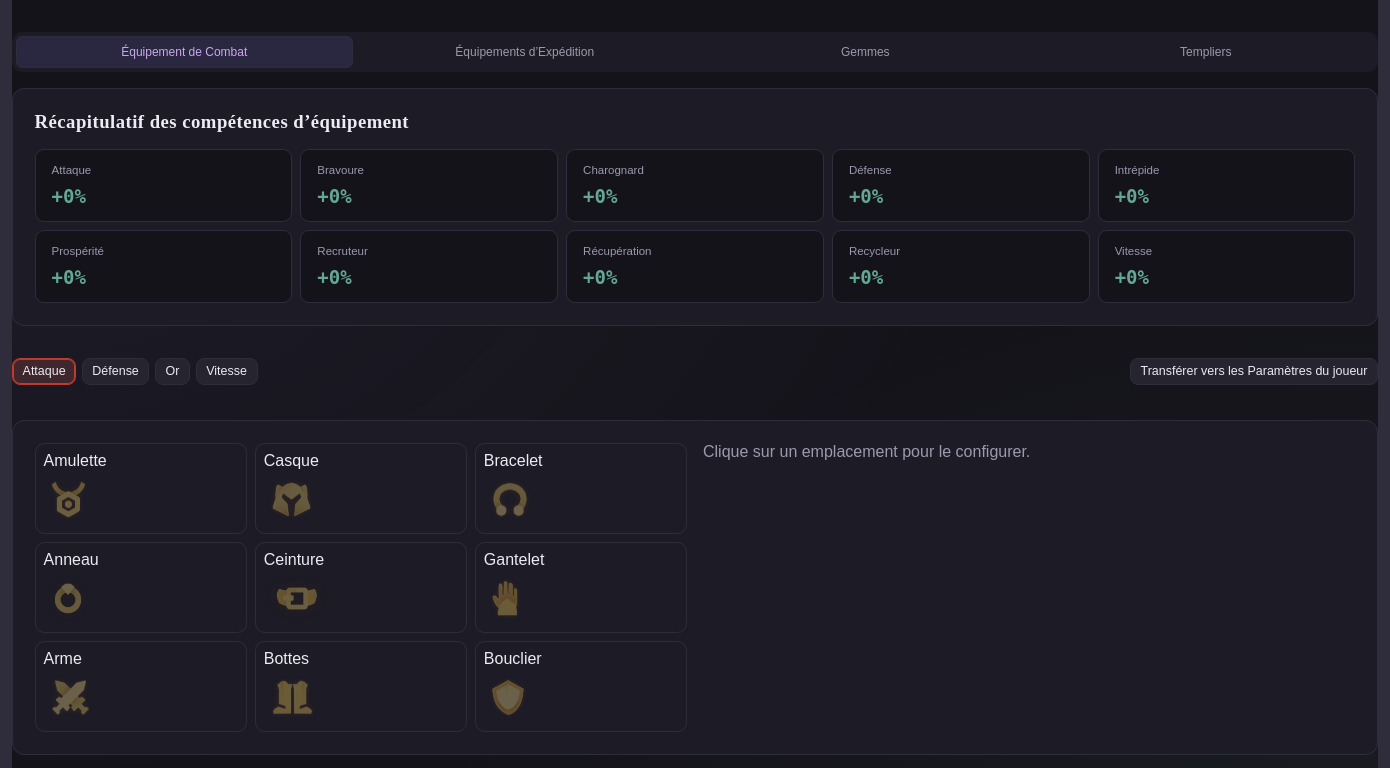
it: SkillsCalculators › uses the administrator-provided named Templar parameters
The width and height of the screenshot is (1390, 768).
Click the tab "Templiers": (1206, 52) [1038,36,1374,68]
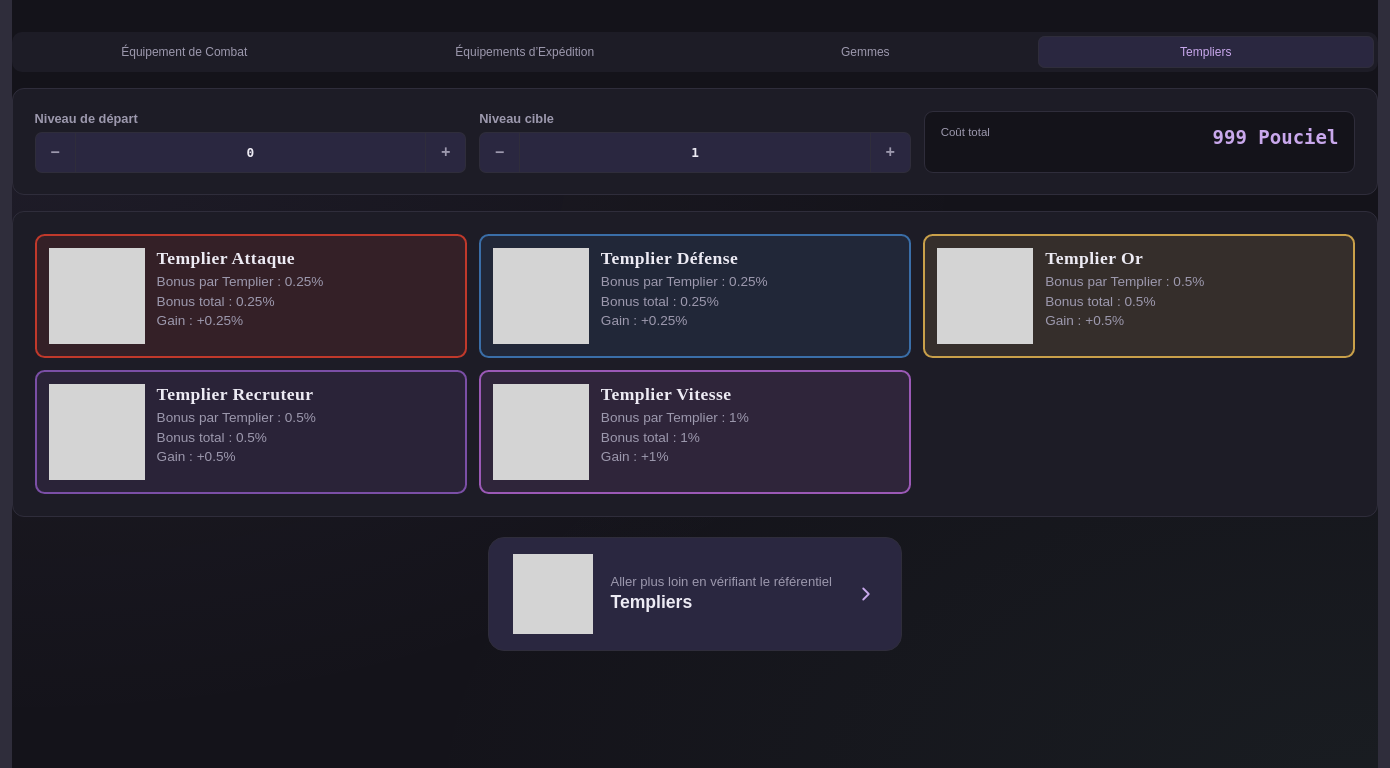
Replace the text in the number field named "Niveau cible" with "3": (695, 152) [519,132,871,173]
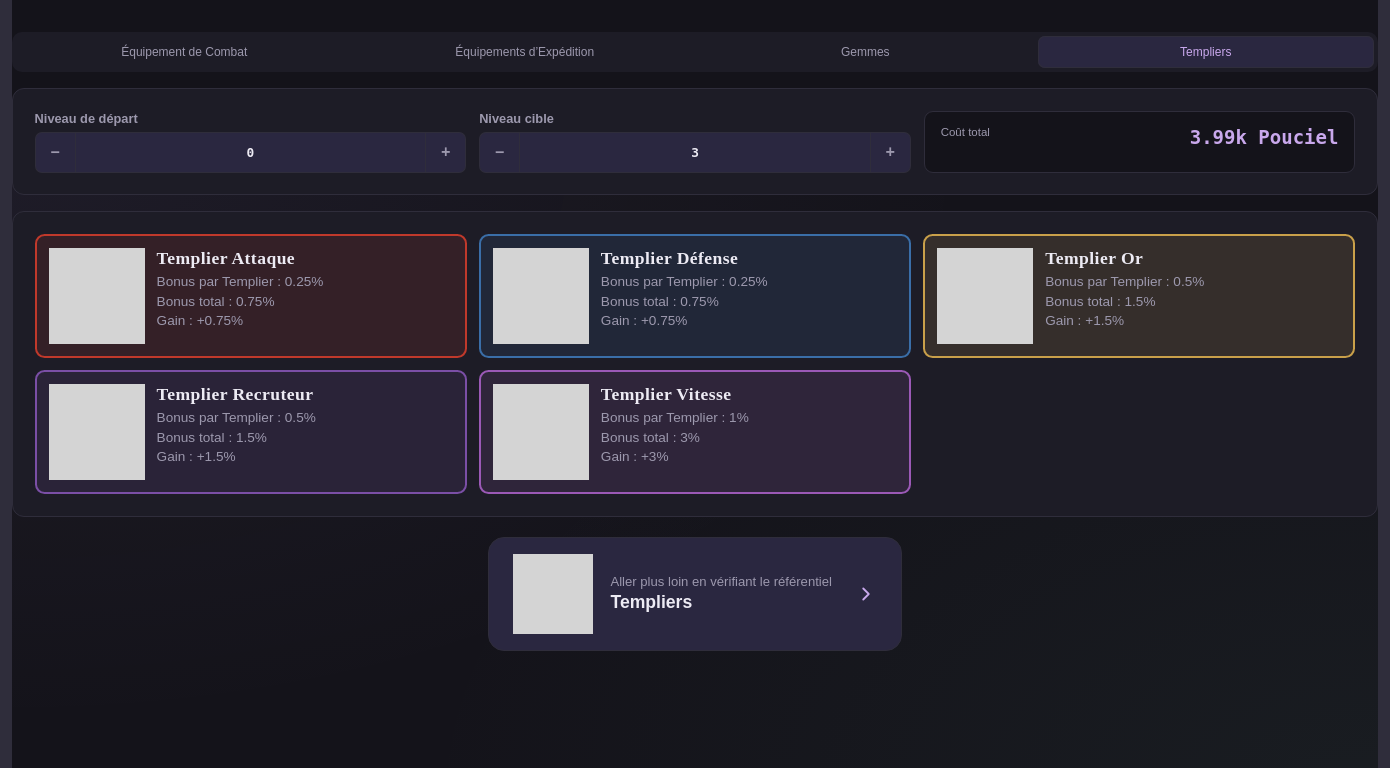
Check: the text with test id "templar-cost" reads "3.99k Pouciel", box [1190,126,1338,148]
